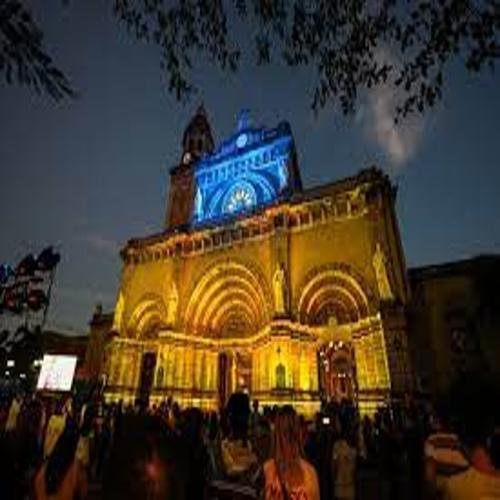Manila Cathedral Church: (82, 76, 422, 419)
